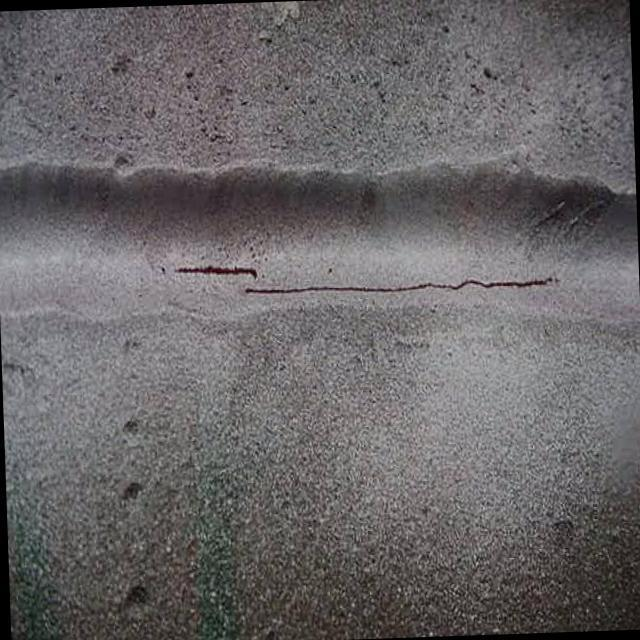defect: (236, 271, 566, 297), (165, 260, 259, 283)
